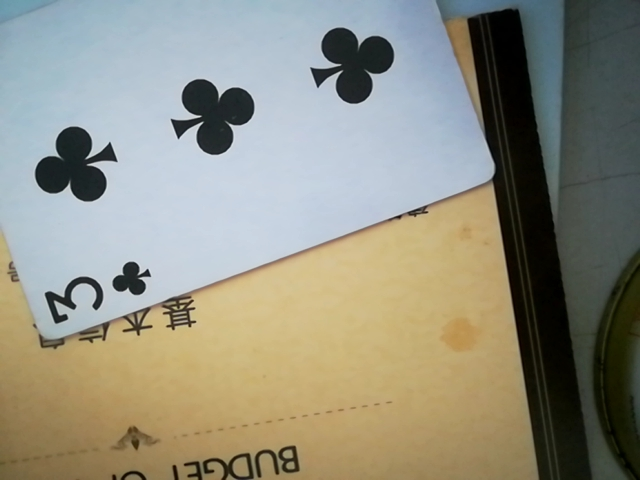mh 3: (0, 0, 497, 335)
